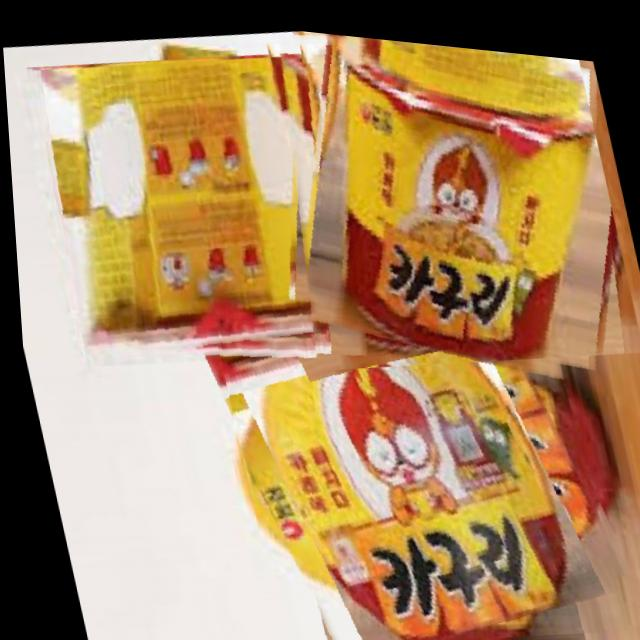Miscellaneous: (200, 235, 624, 640), (243, 20, 640, 390), (16, 24, 370, 386)
